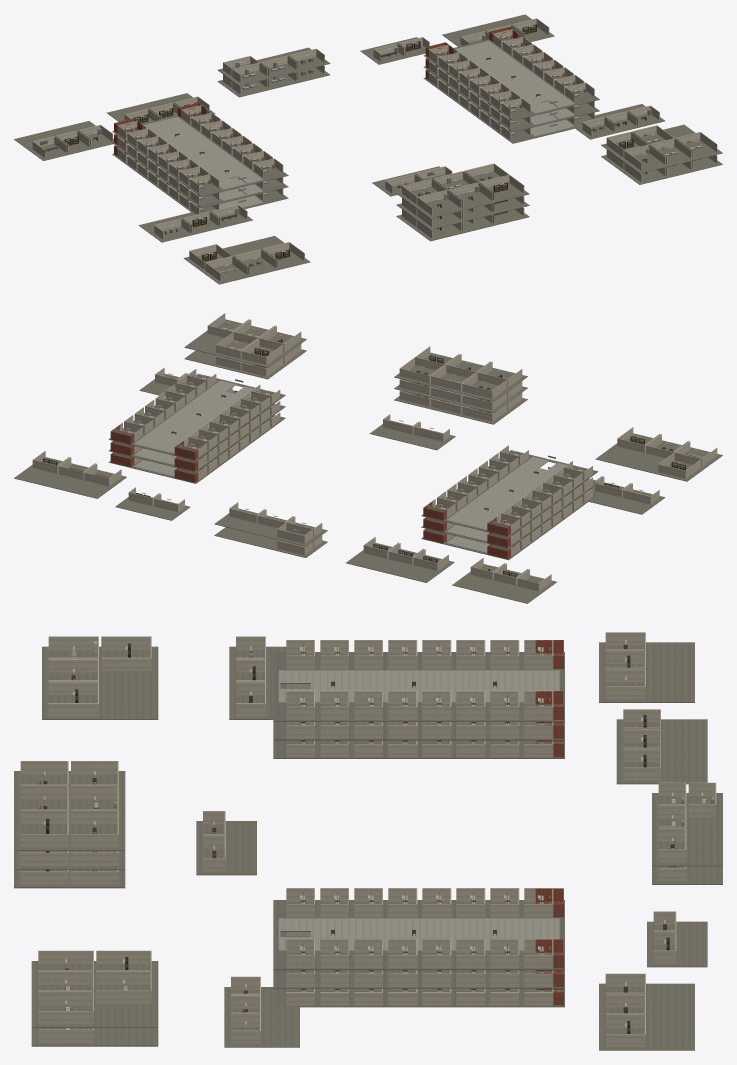
The model's file is LRP02_interior.gltf.
3 renders of one model, top to bottom at view 1: azimuth 30°, elevation 25°; view 2: azimuth 150°, elevation 25°; view 3: azimuth 270°, elevation 25°, orthographic. The views are drawn at different scales.
Parts seen in each view (by area): view 1: COZINHA_REFEITORIO_P1_LAJE_PISO, ADMINISTRACAO_P3_LAJE_PISO, ENFERMARIA_P2_LAJE_PISO, PAVILHAO_02_P3_CORREDOR_R02C_TRECHO_1, PAVILHAO_01_P3_CORREDOR_R02C_TRECHO_1, EDUCACAO_P1_LAJE_PISO, LAVANDERIA_P1_LAJE_PISO, ADMINISTRACAO_P1_LAJE_PISO, SERVIDORES_P2_LAJE_PISO, ADMINISTRACAO_P2_LAJE_PISO, OFICINAS_P1_LAJE_PISO, VISITAS_P1_LAJE_PISO (+16 smaller); view 2: COZINHA_REFEITORIO_P1_LAJE_PISO, ENFERMARIA_P2_LAJE_PISO, OFICINAS_P1_LAJE_PISO, DEPOSITOS_P1_LAJE_PISO, EDUCACAO_P1_LAJE_PISO, PAVILHAO_02_P3_CORREDOR_R02C_TRECHO_1, PAVILHAO_01_P3_CORREDOR_R02C_TRECHO_1, ADMINISTRACAO_P3_LAJE_PISO, SERVIDORES_P2_LAJE_PISO, PAVILHAO_01_P3_CORREDOR_R02C_TRECHO_0, PAVILHAO_02_P3_CORREDOR_R02C_TRECHO_0, SERVIDORES_P1_LAJE_PISO (+14 smaller); view 3: COZINHA_REFEITORIO_P1_LAJE_PISO, ADMINISTRACAO_P3_LAJE_PISO, ENFERMARIA_P2_LAJE_PISO, DEPOSITOS_P1_LAJE_PISO, OFICINAS_P1_LAJE_PISO, EDUCACAO_P1_LAJE_PISO, PAVILHAO_02_P3_CORREDOR_R02C_TRECHO_0, PAVILHAO_01_P3_CORREDOR_R02C_TRECHO_0, SERVIDORES_P2_LAJE_PISO, MULTIUSO_P1_LAJE_PISO, VISITAS_P1_LAJE_PISO, PAVILHAO_02_P1_LAJE_R02C (+39 smaller).
Part boxes in pixels (x1,y1,x2,y2): COZINHA_REFEITORIO_P1_LAJE_PISO: [183, 236, 310, 284]; ADMINISTRACAO_P3_LAJE_PISO: [396, 172, 529, 218]; ENFERMARIA_P2_LAJE_PISO: [601, 124, 722, 173]; PAVILHAO_02_P3_CORREDOR_R02C_TRECHO_1: [473, 41, 574, 107]; PAVILHAO_01_P3_CORREDOR_R02C_TRECHO_1: [162, 117, 263, 183]; EDUCACAO_P1_LAJE_PISO: [14, 121, 113, 160]; LAVANDERIA_P1_LAJE_PISO: [138, 209, 252, 242]; ADMINISTRACAO_P1_LAJE_PISO: [396, 209, 529, 241]; SERVIDORES_P2_LAJE_PISO: [218, 47, 330, 85]; ADMINISTRACAO_P2_LAJE_PISO: [396, 198, 529, 229]; OFICINAS_P1_LAJE_PISO: [442, 14, 554, 46]; VISITAS_P1_LAJE_PISO: [569, 104, 664, 139]; COZINHA_REFEITORIO_P1_LAJE_PISO: [595, 433, 722, 481]; ENFERMARIA_P2_LAJE_PISO: [184, 319, 306, 367]; OFICINAS_P1_LAJE_PISO: [14, 457, 126, 498]; DEPOSITOS_P1_LAJE_PISO: [346, 543, 454, 582]; EDUCACAO_P1_LAJE_PISO: [452, 564, 556, 603]; PAVILHAO_02_P3_CORREDOR_R02C_TRECHO_1: [134, 380, 235, 447]; PAVILHAO_01_P3_CORREDOR_R02C_TRECHO_1: [447, 457, 548, 523]; ADMINISTRACAO_P3_LAJE_PISO: [394, 352, 527, 401]; SERVIDORES_P2_LAJE_PISO: [214, 508, 327, 546]; PAVILHAO_01_P3_CORREDOR_R02C_TRECHO_0: [471, 463, 566, 529]; PAVILHAO_02_P3_CORREDOR_R02C_TRECHO_0: [158, 386, 253, 453]; SERVIDORES_P1_LAJE_PISO: [214, 527, 327, 557]; COZINHA_REFEITORIO_P1_LAJE_PISO: [42, 646, 158, 719]; ADMINISTRACAO_P3_LAJE_PISO: [14, 771, 125, 850]; ENFERMARIA_P2_LAJE_PISO: [31, 961, 158, 1027]; DEPOSITOS_P1_LAJE_PISO: [616, 719, 707, 784]; OFICINAS_P1_LAJE_PISO: [599, 983, 694, 1050]; EDUCACAO_P1_LAJE_PISO: [599, 642, 694, 702]; PAVILHAO_02_P3_CORREDOR_R02C_TRECHO_0: [278, 918, 559, 931]; PAVILHAO_01_P3_CORREDOR_R02C_TRECHO_0: [278, 670, 559, 683]; SERVIDORES_P2_LAJE_PISO: [652, 793, 722, 866]; MULTIUSO_P1_LAJE_PISO: [196, 821, 256, 875]; VISITAS_P1_LAJE_PISO: [224, 987, 299, 1047]; PAVILHAO_02_P1_LAJE_R02C: [273, 988, 564, 1007].
Bounding box in the file's own units: 190 × 11.12 × 140.
Materials: 5 (5 with a texture image).
